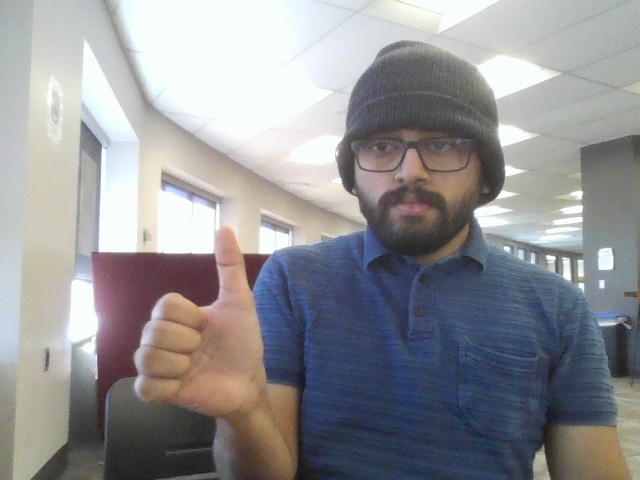start: (123, 225, 286, 427)
